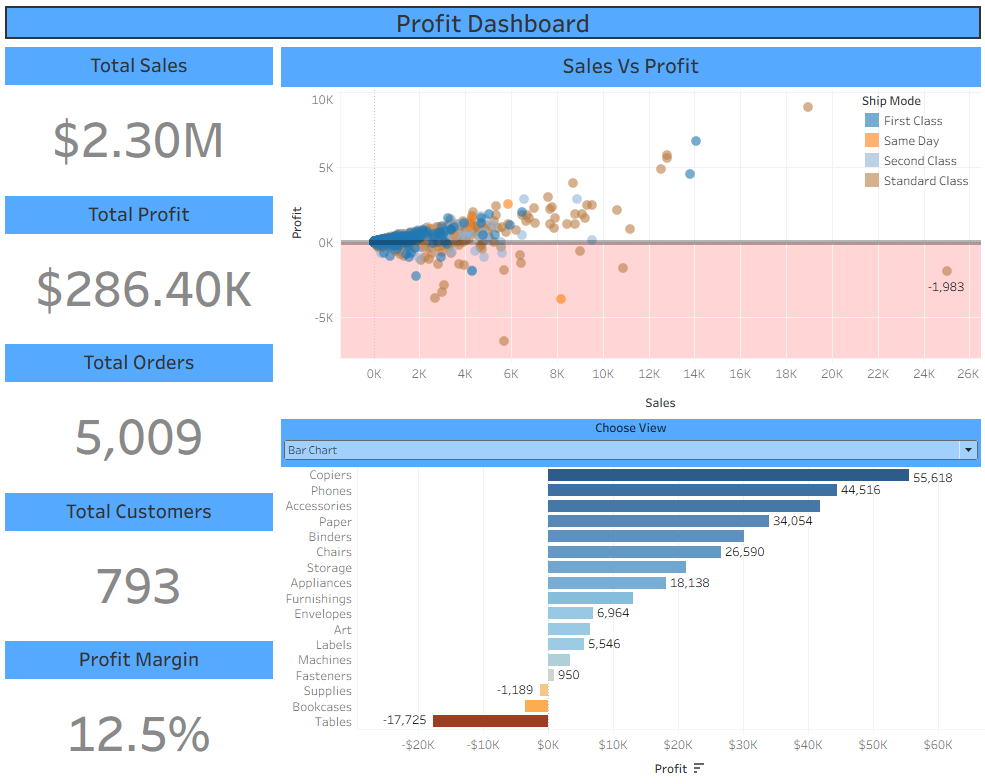

What the dashboard file says about the page in this screenshot:
{"tool":"tableau","page":{"name":"Profit Dashboard","canvas":[1000,800],"ordinal":0},"visuals":[{"type":"title","box":[8,8,984,41]},{"type":"worksheet","title":"KPI Sales","mark":"Automatic","box":[8,49,276,148.6]},{"type":"worksheet","title":"Sales Vs Profit","mark":"Automatic","rows":["Profit"],"cols":["Sales"],"box":[284,49,708,371.5]},{"type":"worksheet","title":"Total Profit","mark":"Automatic","box":[8,197.6,276,148.6]},{"type":"worksheet","title":"Total Orders","mark":"Automatic","box":[8,346.2,276,148.6]},{"type":"parameter","param":"[Parameters].[Parameter 0142431409278976]","box":[284,420.5,708,371.5]},{"type":"worksheet","title":"Grid","mark":"Automatic","rows":["Segment","Category"],"box":[289,470,697,314]},{"type":"worksheet","title":"Profit by Customer Segment","mark":"Automatic","rows":["Sub-Category"],"cols":["Profit"],"box":[284,473,708,317]},{"type":"worksheet","title":"Total Customers","mark":"Automatic","box":[8,494.8,276,148.6]},{"type":"worksheet","title":"Profit Margin","mark":"Automatic","box":[8,643.4,276,148.6]}]}

Visuals, with their boxes in screenshot pixels (x1, y1, x2, y2), scaled from the page's 1000x800 canvas onto the 985x784 screenshot:
title: x1=8, y1=8, x2=977, y2=48
"KPI Sales" worksheet: x1=8, y1=48, x2=280, y2=194
"Sales Vs Profit" worksheet: x1=280, y1=48, x2=977, y2=412
"Total Profit" worksheet: x1=8, y1=194, x2=280, y2=339
"Total Orders" worksheet: x1=8, y1=339, x2=280, y2=485
parameter: x1=280, y1=412, x2=977, y2=776
"Grid" worksheet: x1=285, y1=461, x2=971, y2=768
"Profit by Customer Segment" worksheet: x1=280, y1=464, x2=977, y2=774
"Total Customers" worksheet: x1=8, y1=485, x2=280, y2=631
"Profit Margin" worksheet: x1=8, y1=631, x2=280, y2=776
